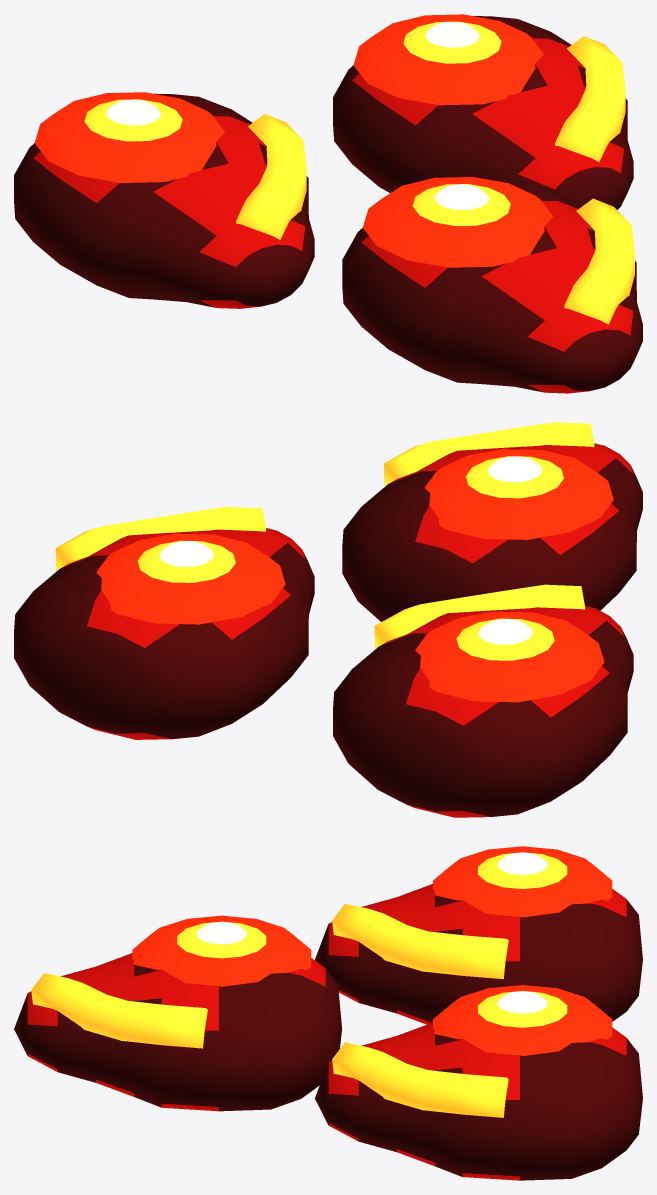
Rendered from newshe-277.glb.
3 renders of one model, top to bottom at view 1: azimuth 30°, elevation 25°; view 2: azimuth 150°, elevation 25°; view 3: azimuth 270°, elevation 25°, orthographic. The views are drawn at different scales.
Parts seen in each view (by area): view 1: newshe-277; view 2: newshe-277; view 3: newshe-277.
Part boxes in pixels (<box>): newshe-277: <box>14,14,642,393</box>; newshe-277: <box>14,422,642,817</box>; newshe-277: <box>14,846,642,1180</box>.
Size of the model in its own units: 1.75 by 0.5215 by 1.92.
